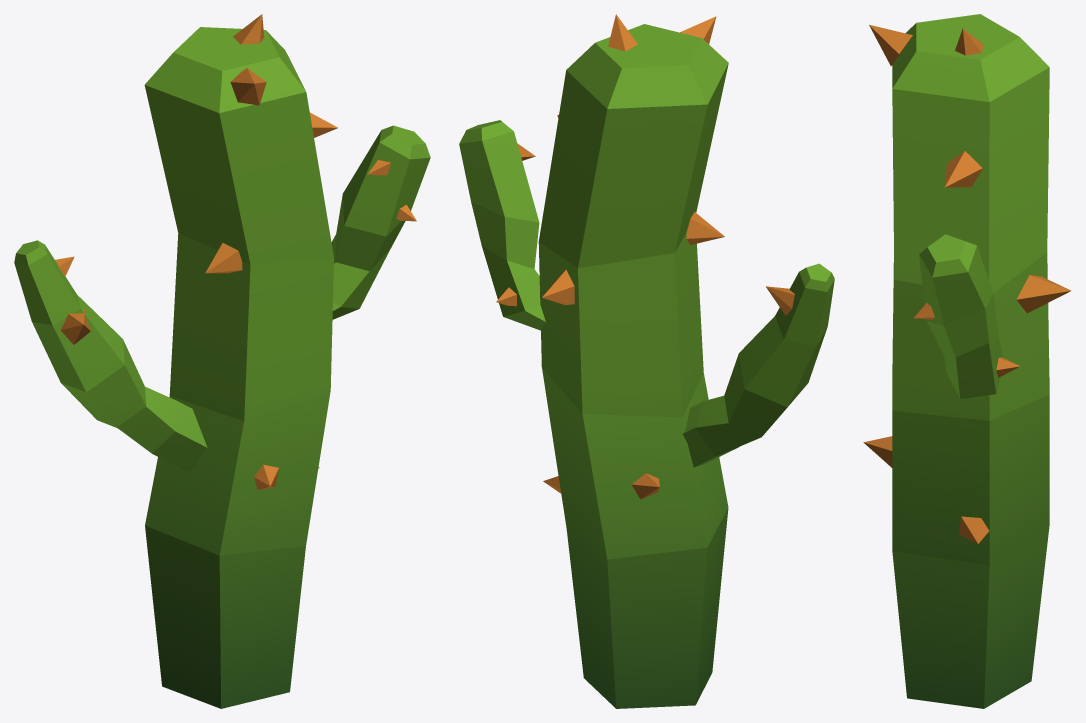
The model's file is cactus.fbx.
3 views of the same model, side by side, from view 1: azimuth 30°, elevation 25°; view 2: azimuth 150°, elevation 25°; view 3: azimuth 270°, elevation 25° (orthographic).
Parts seen in each view (by area): view 1: Cylinder, Cone.001; view 2: Cylinder, Cone.001; view 3: Cylinder, Cone.001.
Part boxes in pixels (x1,y1,x2,y2): Cylinder: (14,27,430,708); Cone.001: (55,14,416,489); Cylinder: (459,24,834,708); Cone.001: (496,14,794,499); Cylinder: (892,14,1049,708); Cone.001: (863,24,1071,543).
Bounding box in the file's own units: 516 × 849 × 240.
